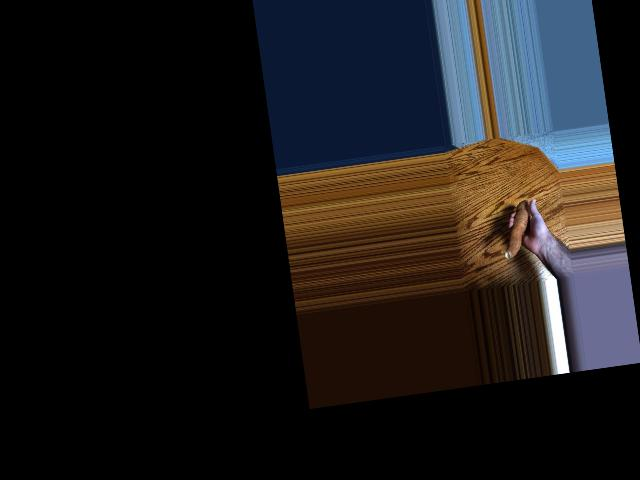sweet_potato: (498, 197, 534, 260)
